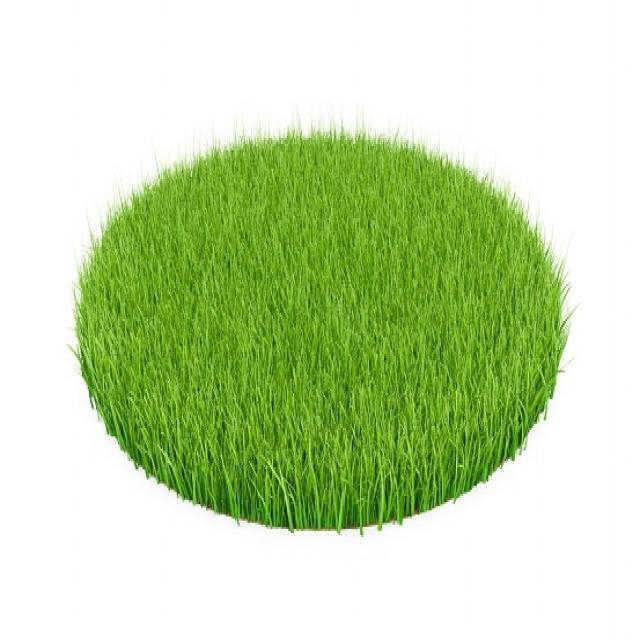Circle: (80, 133, 561, 528)
